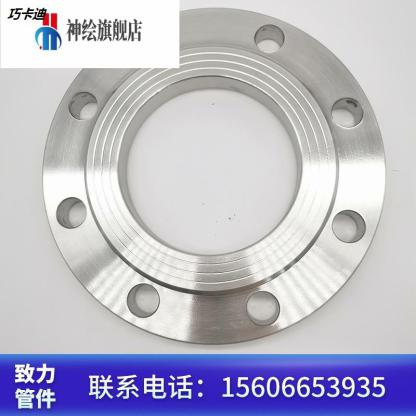FOD: (37, 2, 389, 354)
